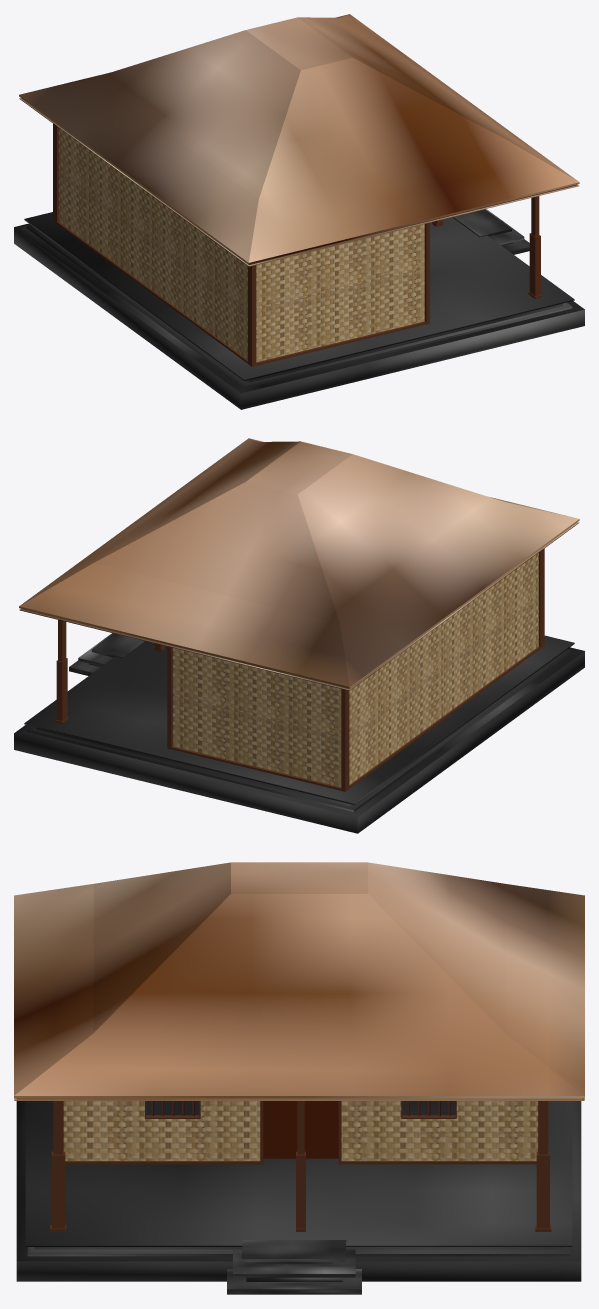
The model's file is Bangunan Bale Dauh.fbx.
The picture shows the model from 3 angles, top to bottom: view 1: azimuth 30°, elevation 25°; view 2: azimuth 150°, elevation 25°; view 3: azimuth 270°, elevation 25°; orthographic projection. The views are drawn at different scales.
Parts seen in each view (by area): view 1: Atap Bale Dauh, Dinding Bale Dauh, Pondasi Bale Dauh, Tiang Bale Dauh, Tangga Bale Dauh; view 2: Atap Bale Dauh, Dinding Bale Dauh, Pondasi Bale Dauh, Tiang Bale Dauh, Tangga Bale Dauh; view 3: Atap Bale Dauh, Pondasi Bale Dauh, Dinding Bale Dauh, Tiang Bale Dauh, Tangga Bale Dauh, Pintu Bale Dauh.
Boxes of the visible parts, x1,y1,x2,y2 form: Atap Bale Dauh: (19,14,579,266); Dinding Bale Dauh: (58,128,424,362); Pondasi Bale Dauh: (14,212,584,409); Tiang Bale Dauh: (53,124,541,366); Tangga Bale Dauh: (452,209,529,254); Atap Bale Dauh: (19,438,579,690); Dinding Bale Dauh: (172,553,538,787); Pondasi Bale Dauh: (14,635,584,833); Tiang Bale Dauh: (55,548,544,791); Tangga Bale Dauh: (69,633,145,675); Atap Bale Dauh: (14,862,584,1100); Pondasi Bale Dauh: (16,1101,581,1281); Dinding Bale Dauh: (63,1101,538,1160); Tiang Bale Dauh: (50,1101,551,1231); Tangga Bale Dauh: (227,1240,361,1294); Pintu Bale Dauh: (263,1101,338,1158).
Size of the model in its own units: 14.59 by 8.9 by 15.4.
